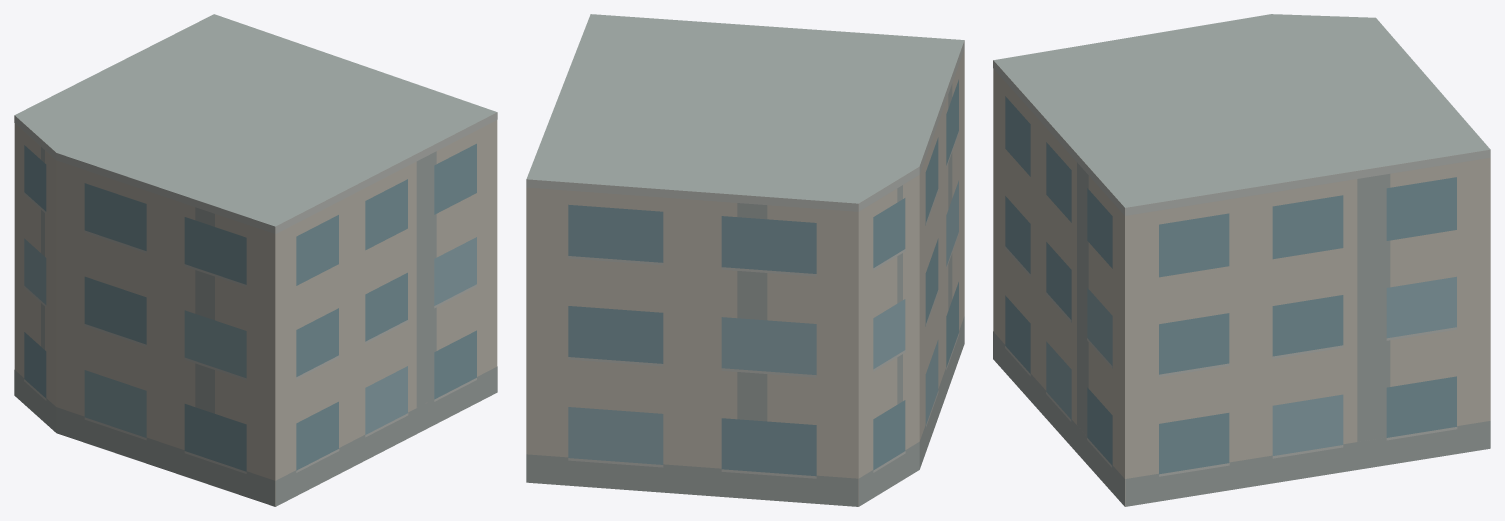
File: residential-ba084000-e52d-43e6-9325-7d595a3e06c2.glb
3 views of the same model, side by side, from view 1: azimuth 30°, elevation 25°; view 2: azimuth 150°, elevation 25°; view 3: azimuth 270°, elevation 25° (orthographic). The views are drawn at different scales.
Visible parts, largest first — view 1: residential-ba084000-e52d-43e6-9325-7d595a3e06c2.tmp; view 2: residential-ba084000-e52d-43e6-9325-7d595a3e06c2.tmp; view 3: residential-ba084000-e52d-43e6-9325-7d595a3e06c2.tmp.
Part boxes in pixels (x1=…): residential-ba084000-e52d-43e6-9325-7d595a3e06c2.tmp: x1=14, y1=14, x2=497, y2=506; residential-ba084000-e52d-43e6-9325-7d595a3e06c2.tmp: x1=526, y1=14, x2=964, y2=506; residential-ba084000-e52d-43e6-9325-7d595a3e06c2.tmp: x1=993, y1=14, x2=1490, y2=506.
Bounding box in the file's own units: 12.53 × 9 × 13.58.
